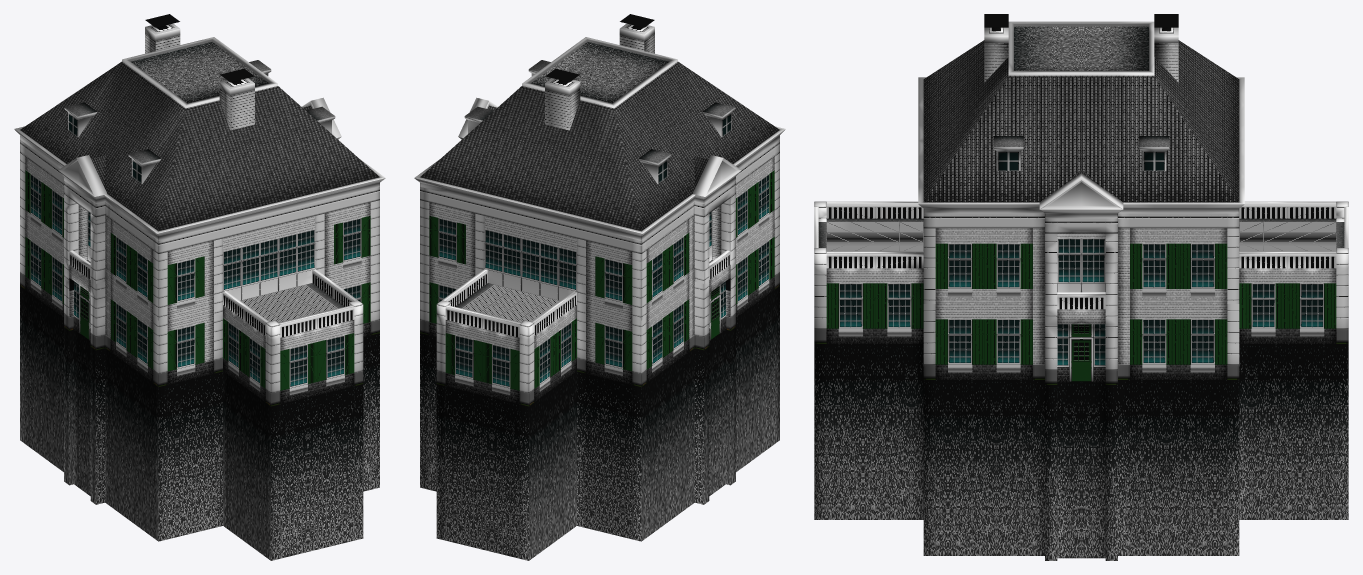
Rendered from landhuis_mod2_1b.fbx.
3 renders of one model, left to right at view 1: azimuth 30°, elevation 25°; view 2: azimuth 150°, elevation 25°; view 3: azimuth 270°, elevation 25°, orthographic. The views are drawn at different scales.
Parts seen in each view (by area): view 1: landhuis_mod2_1b; view 2: landhuis_mod2_1b; view 3: landhuis_mod2_1b.
Part boxes in pixels (x1=…): landhuis_mod2_1b: x1=14, y1=14, x2=385, y2=560; landhuis_mod2_1b: x1=414, y1=14, x2=785, y2=560; landhuis_mod2_1b: x1=814, y1=14, x2=1348, y2=560.
Bounding box in the file's own units: 1506 × 2421 × 2475.
